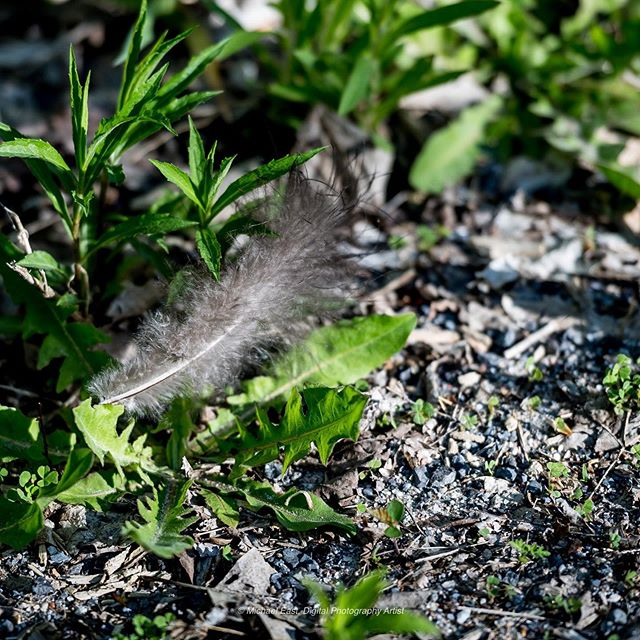vegetation: (1, 1, 624, 632)
